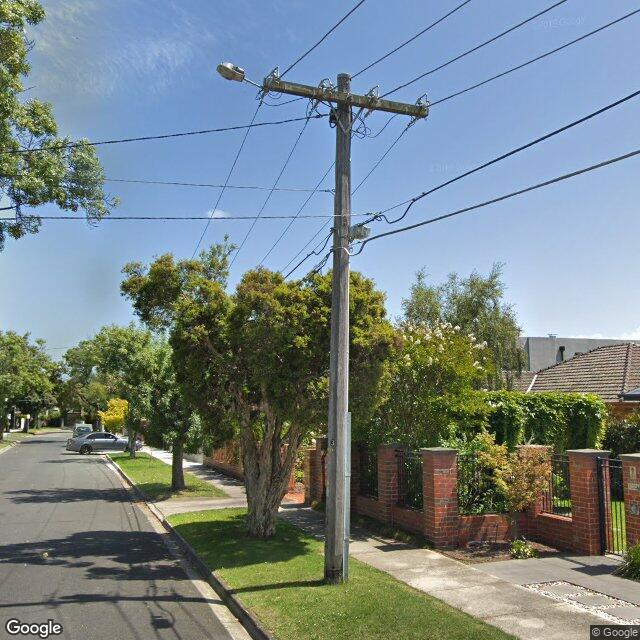crossarm: (264, 77, 429, 118)
streetlight: (217, 62, 264, 90)
timber-pole: (325, 74, 351, 586)
